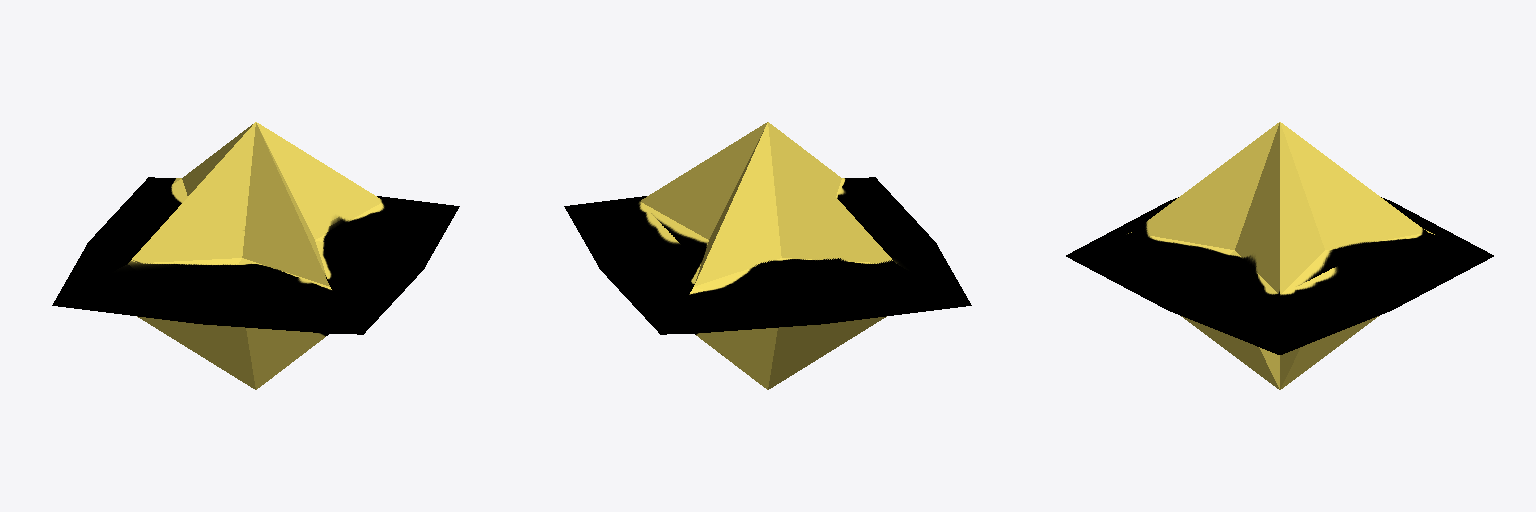
3 renders of one model, left to right at view 1: azimuth 30°, elevation 25°; view 2: azimuth 150°, elevation 25°; view 3: azimuth 270°, elevation 25°, orthographic.
Parts seen in each view (by area): view 1: Cube_Mesh; view 2: Cube_Mesh; view 3: Cube_Mesh.
Part boxes in pixels (left/top/right/bottom): Cube_Mesh: left=52, top=122, right=459, bottom=389; Cube_Mesh: left=564, top=122, right=971, bottom=389; Cube_Mesh: left=1066, top=122, right=1493, bottom=389.
Bounding box in the file's own units: 3.18 × 2 × 2.9.
1 materials, 1 textured.